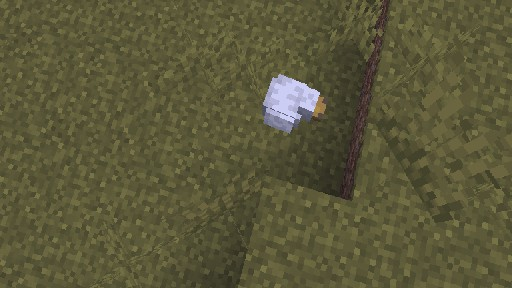chicken: (261, 73, 328, 133)
